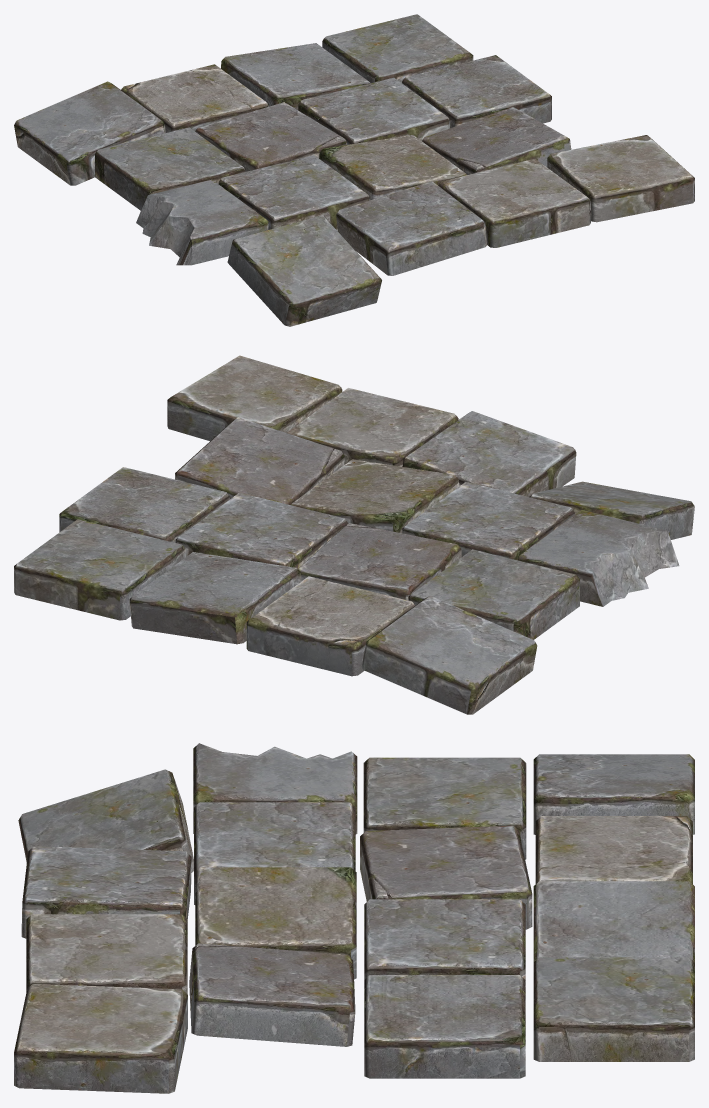
3 views of the same model, one above another, from view 1: azimuth 30°, elevation 25°; view 2: azimuth 150°, elevation 25°; view 3: azimuth 270°, elevation 25° (orthographic). The views are drawn at different scales.
Visible parts, largest first — view 1: SM_Greathall_Floor_4x4_Broken_01_LOD0; view 2: SM_Greathall_Floor_4x4_Broken_01_LOD0; view 3: SM_Greathall_Floor_4x4_Broken_01_LOD0.
Part boxes in pixels (<box>): SM_Greathall_Floor_4x4_Broken_01_LOD0: <box>14,14,694,326</box>; SM_Greathall_Floor_4x4_Broken_01_LOD0: <box>14,355,694,714</box>; SM_Greathall_Floor_4x4_Broken_01_LOD0: <box>14,743,694,1093</box>.
Size of the model in its own units: 4.51 by 0.6166 by 4.03.
Materials: 1 (1 with a texture image).
